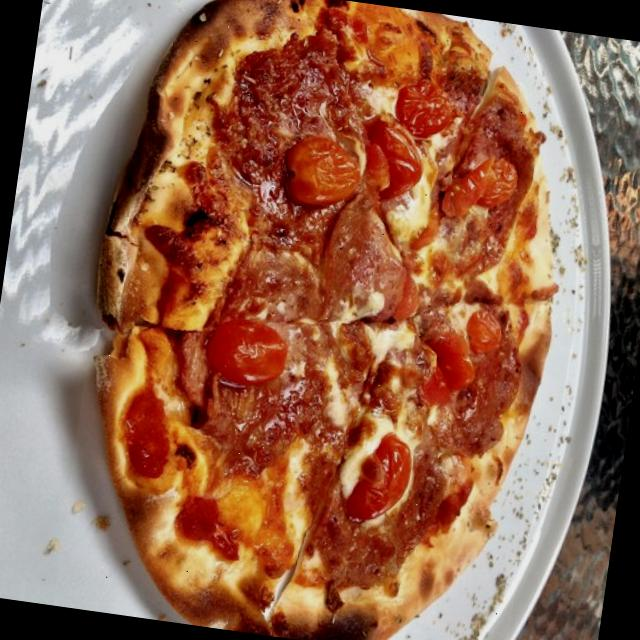pizza: (96, 0, 557, 640)
tomato: (198, 296, 302, 394), (277, 113, 375, 213), (443, 138, 536, 220), (379, 69, 465, 155), (362, 112, 434, 208), (340, 440, 416, 530), (409, 329, 483, 414), (434, 138, 500, 230), (448, 306, 520, 362), (382, 266, 434, 336)
